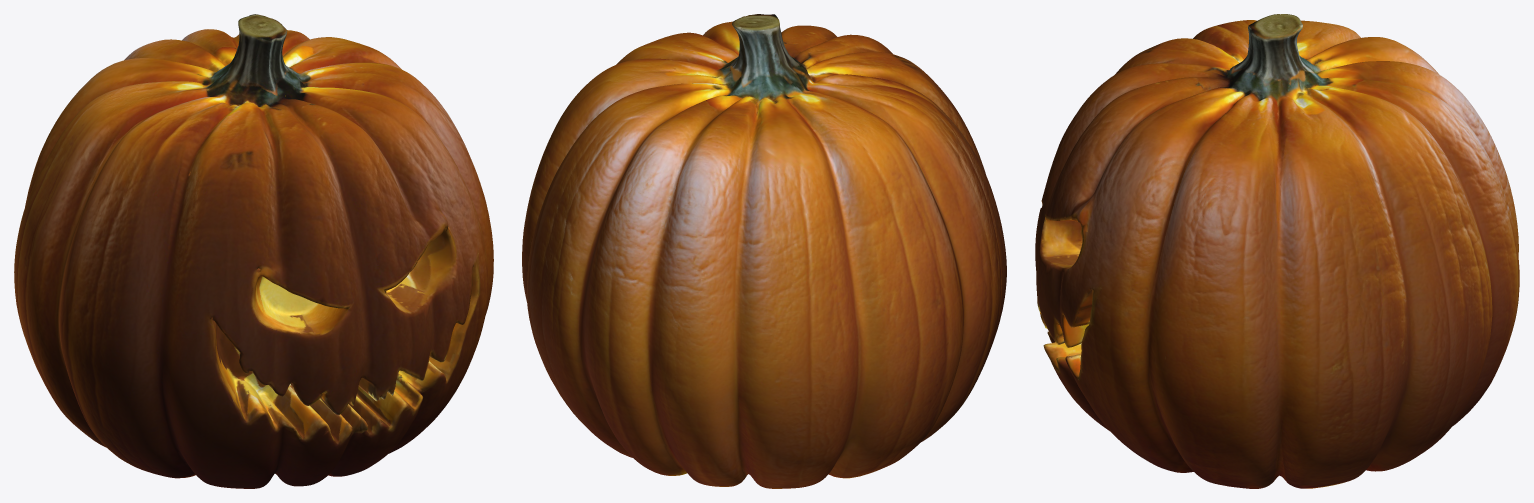
The model's file is pumpkin_halloween_0904233447_refine.fbx.
3 renders of one model, left to right at view 1: azimuth 30°, elevation 25°; view 2: azimuth 150°, elevation 25°; view 3: azimuth 270°, elevation 25°, orthographic.
Parts seen in each view (by area): view 1: Mesh_0; view 2: Mesh_0; view 3: Mesh_0.
Part boxes in pixels (left/top/right/bottom): Mesh_0: left=14, top=14, right=493, bottom=488; Mesh_0: left=522, top=14, right=1006, bottom=488; Mesh_0: left=1035, top=14, right=1519, bottom=488.
Size of the model in its own units: 200 by 187 by 200.
Materials: 1 (1 with a texture image).
